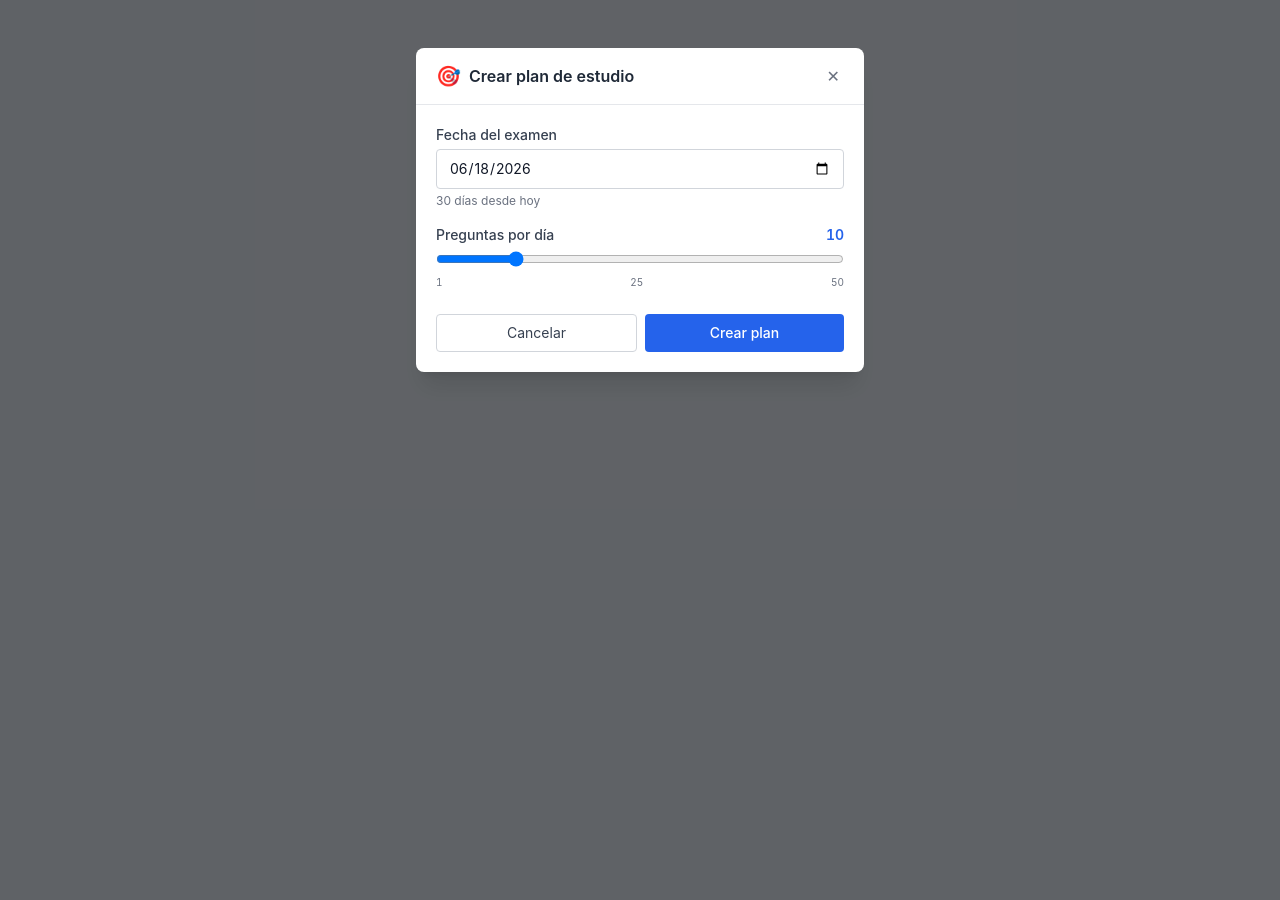
Scenario: CreateStudyPlanModal › shows an error if the API rejects
This screenshot has width=1280, height=900.
Click the button "Crear plan": (744, 333) [645,314,844,352]
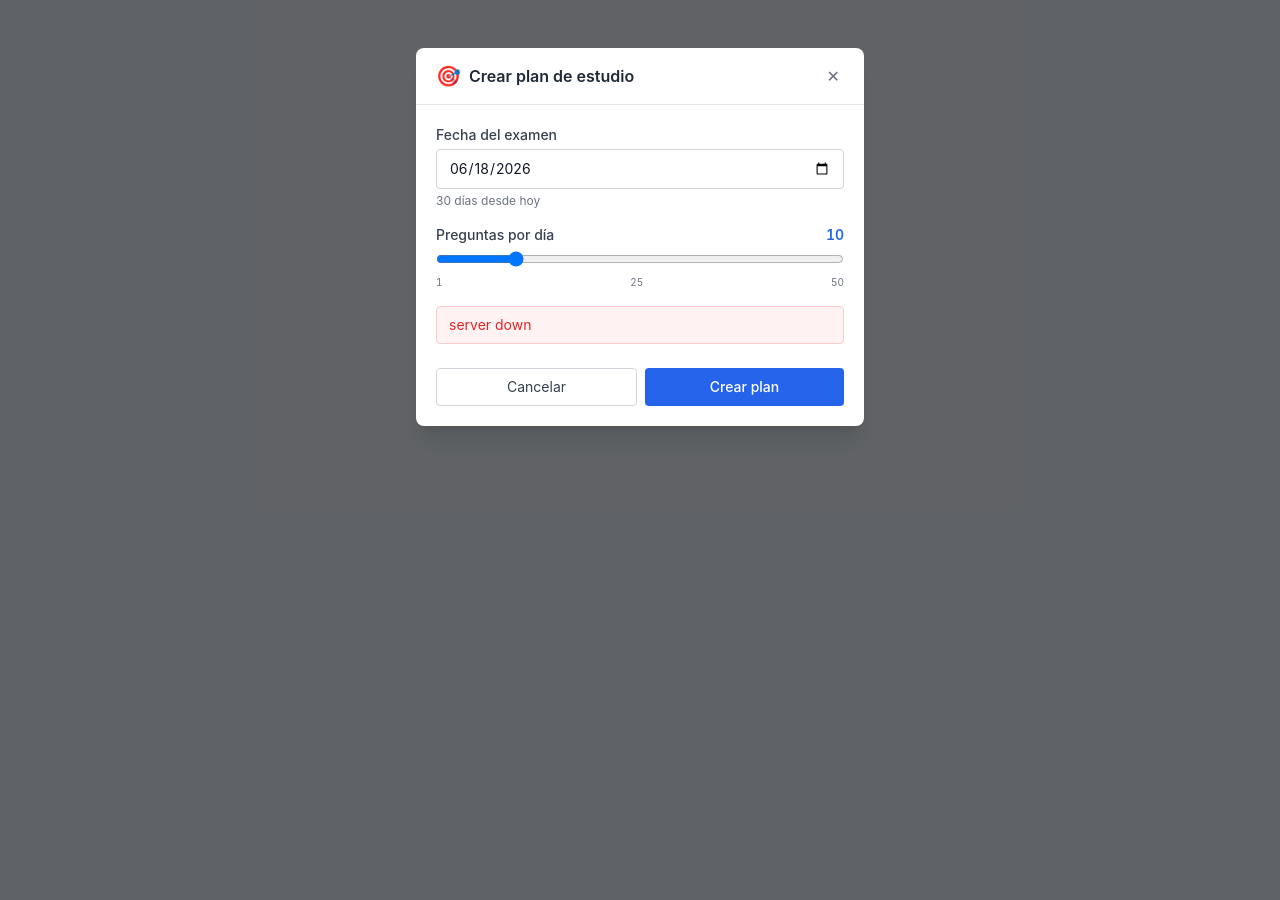
Result: the text "server down" is shown at [436,306,844,344]
